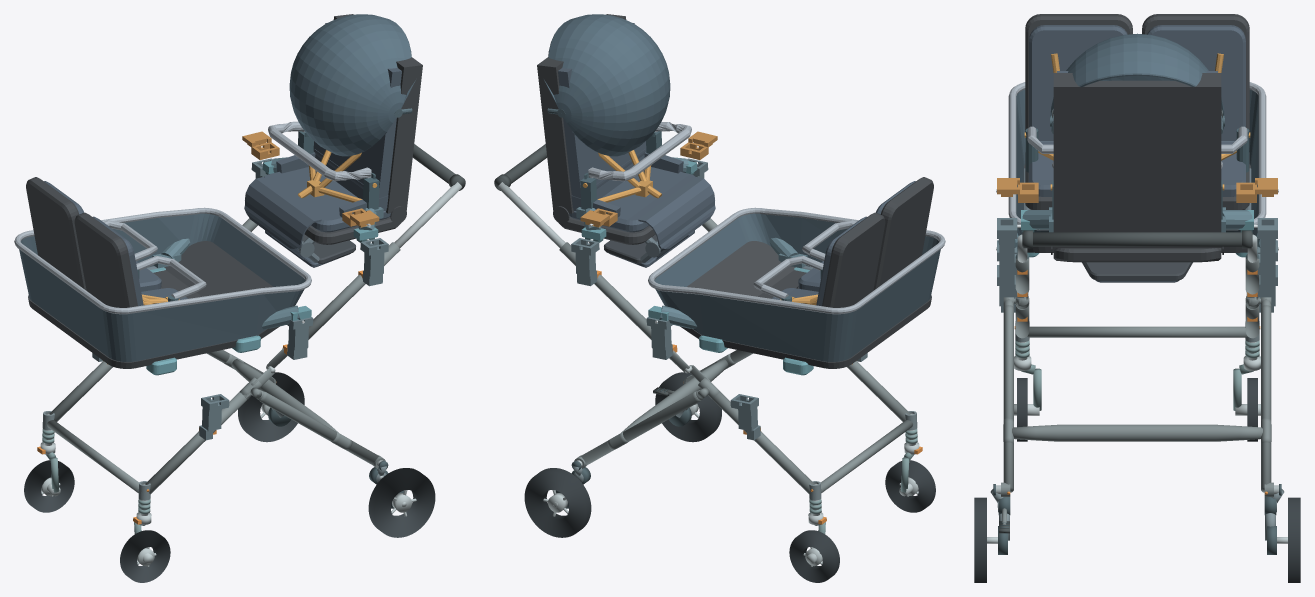
The model's file is D30_w650_state1_wheel_S.glb.
3 renders of one model, left to right at view 1: azimuth 30°, elevation 25°; view 2: azimuth 150°, elevation 25°; view 3: azimuth 270°, elevation 25°, orthographic. The views are drawn at different scales.
Parts seen in each view (by area): view 1: D30_Lower, D30_Upper, RL_tire.008, RR_tire.008, FL_tire.008, FR_tire.008, V46_rear_leg_-1.009, main_lower_-1.009, D30_Lower_Mount_M, main_upper_-1.009, front_fixed_round_tube.008, V46_rearbar.009 (+8 smaller); view 2: D30_Lower, D30_Upper, RR_tire.008, FR_tire.008, RL_tire.008, FL_tire.008, V46_rear_leg_1.009, main_lower_1.009, D30_Lower_Mount_M, main_upper_1.009, front_fixed_round_tube.008, V46_rearbar.009 (+8 smaller); view 3: D30_Upper, D30_Lower, V46_rearbar.009, round_handle.008, front_fixed_round_tube.008, V46_rear_leg_1.009, V46_rear_leg_-1.009, D30_Upper_Mount_H, RL_tire.008, RR_tire.008, Universal_Cabin_Receiver_H_1, Universal_Cabin_Receiver_H_-1 (+8 smaller).
Boxes of the visible parts, x1=… form: D30_Lower: x1=14, y1=177, x2=311, y2=375; D30_Upper: x1=244, y1=14, x2=422, y2=267; RL_tire.008: x1=368, y1=468, x2=435, y2=537; RR_tire.008: x1=238, y1=372, x2=304, y2=442; FL_tire.008: x1=120, y1=530, x2=170, y2=582; FR_tire.008: x1=24, y1=460, x2=74, y2=512; V46_rear_leg_-1.009: x1=259, y1=391, x2=379, y2=465; main_lower_-1.009: x1=145, y1=392, x2=250, y2=494; D30_Lower_Mount_M: x1=152, y1=238, x2=311, y2=329; main_upper_-1.009: x1=308, y1=242, x2=400, y2=339; front_fixed_round_tube.008: x1=47, y1=420, x2=138, y2=492; V46_rearbar.009: x1=231, y1=359, x2=338, y2=432; D30_Lower: x1=648, y1=177, x2=945, y2=375; D30_Upper: x1=537, y1=14, x2=715, y2=267; RR_tire.008: x1=524, y1=468, x2=591, y2=537; FR_tire.008: x1=789, y1=530, x2=839, y2=582; RL_tire.008: x1=655, y1=372, x2=721, y2=442; FL_tire.008: x1=885, y1=460, x2=935, y2=512; V46_rear_leg_1.009: x1=580, y1=391, x2=700, y2=465; main_lower_1.009: x1=709, y1=392, x2=814, y2=494; D30_Lower_Mount_M: x1=648, y1=237, x2=807, y2=328; main_upper_1.009: x1=559, y1=242, x2=651, y2=339; front_fixed_round_tube.008: x1=821, y1=420, x2=912, y2=492; V46_rearbar.009: x1=621, y1=359, x2=728, y2=432; D30_Upper: x1=1050, y1=33, x2=1224, y2=282; D30_Lower: x1=1008, y1=14, x2=1266, y2=257; V46_rearbar.009: x1=1012, y1=424, x2=1262, y2=441; round_handle.008: x1=1022, y1=232, x2=1252, y2=246; front_fixed_round_tube.008: x1=1027, y1=326, x2=1247, y2=337; V46_rear_leg_1.009: x1=1261, y1=305, x2=1271, y2=492; V46_rear_leg_-1.009: x1=1003, y1=305, x2=1013, y2=492; D30_Upper_Mount_H: x1=1017, y1=207, x2=1257, y2=232; RL_tire.008: x1=974, y1=497, x2=986, y2=582; RR_tire.008: x1=1288, y1=497, x2=1300, y2=582; Universal_Cabin_Receiver_H_1: x1=1257, y1=218, x2=1277, y2=274; Universal_Cabin_Receiver_H_-1: x1=997, y1=218, x2=1017, y2=274.
Size of the model in its own units: 1.17 by 1.43 by 0.766.
